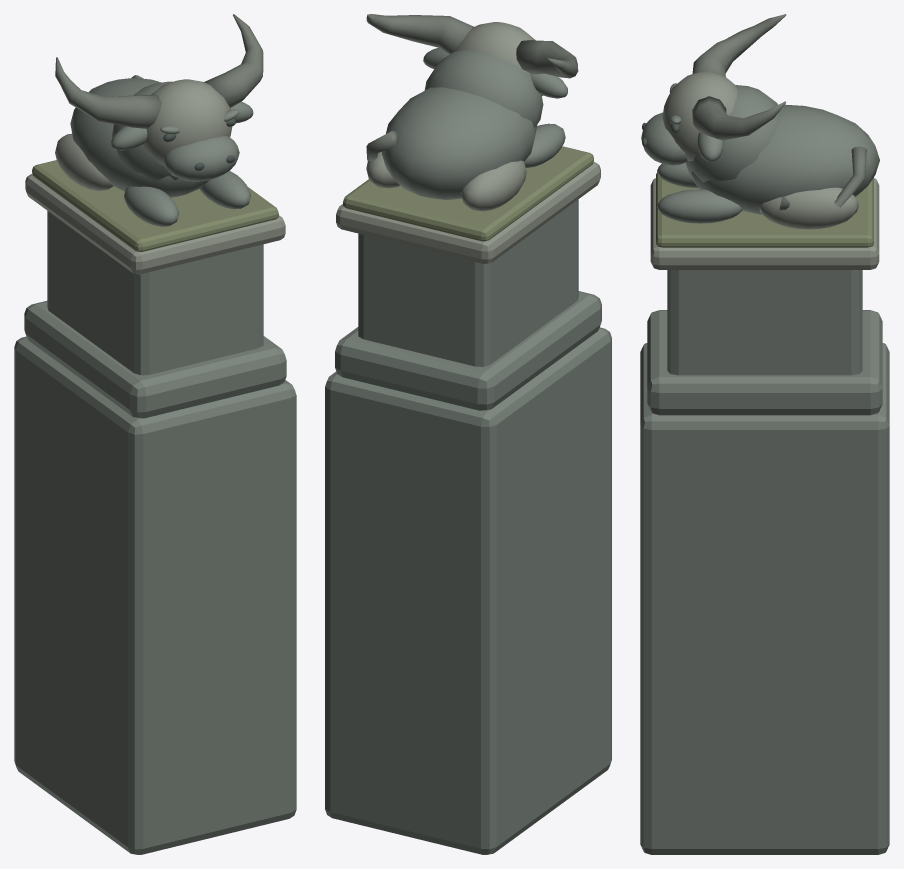
The model's file is bridge-buffalo.glb.
The picture shows the model from 3 angles, left to right: view 1: azimuth 30°, elevation 25°; view 2: azimuth 150°, elevation 25°; view 3: azimuth 270°, elevation 25°; orthographic projection.
Parts seen in each view (by area): view 1: Rongwan bridge · reclining water buffalo; view 2: Rongwan bridge · reclining water buffalo; view 3: Rongwan bridge · reclining water buffalo.
Part boxes in pixels (x1,y1,x2,y2): Rongwan bridge · reclining water buffalo: (14,14,296,854); Rongwan bridge · reclining water buffalo: (325,14,611,854); Rongwan bridge · reclining water buffalo: (640,14,889,854).
Bounding box in the file's own units: 1.3 × 4.81 × 1.43.
